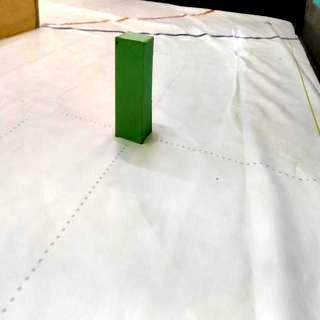greenbox: (114, 31, 154, 142)
